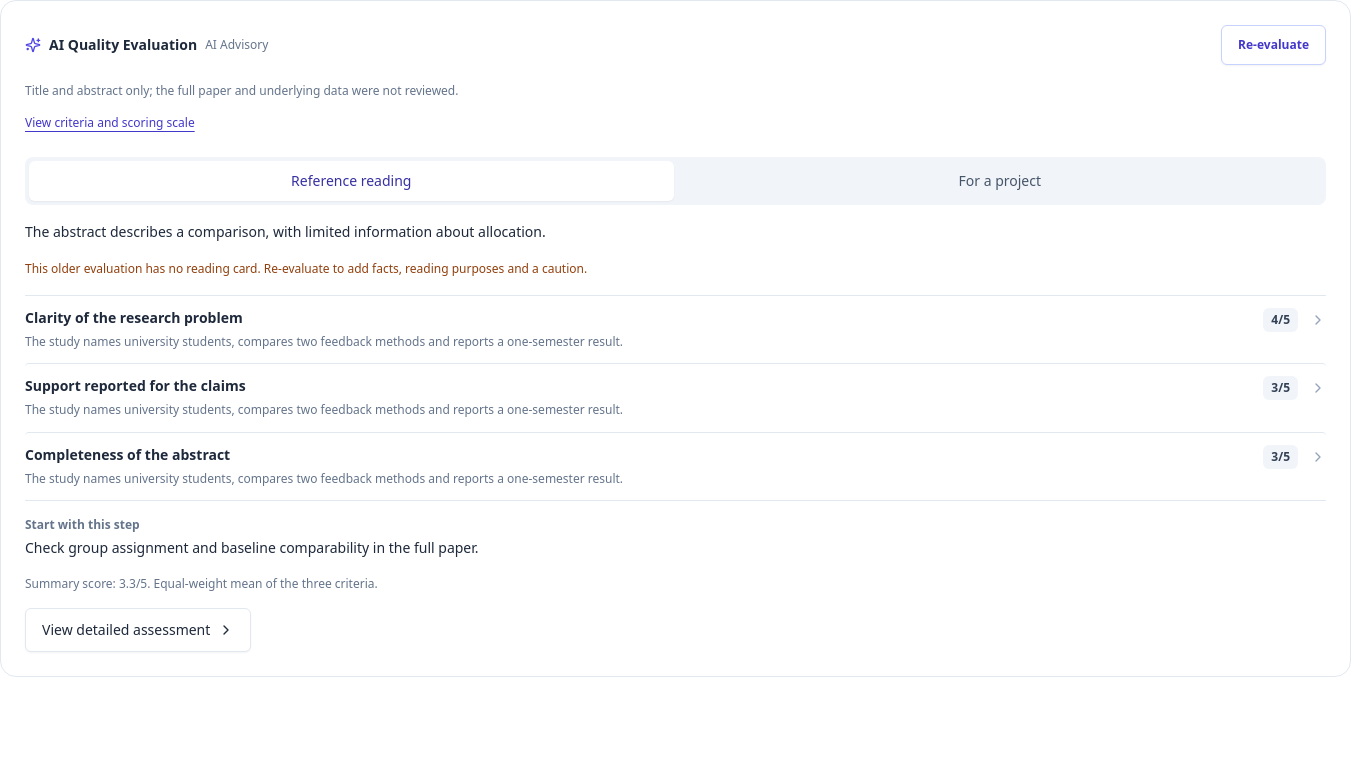
Test: AI quality assessment reading flow › keeps the saved assessment visible if a new evaluation fails
The image size is (1366, 768).
Click the button "Re-evaluate". click: point(1274, 45)
box: [1221,25,1326,65]
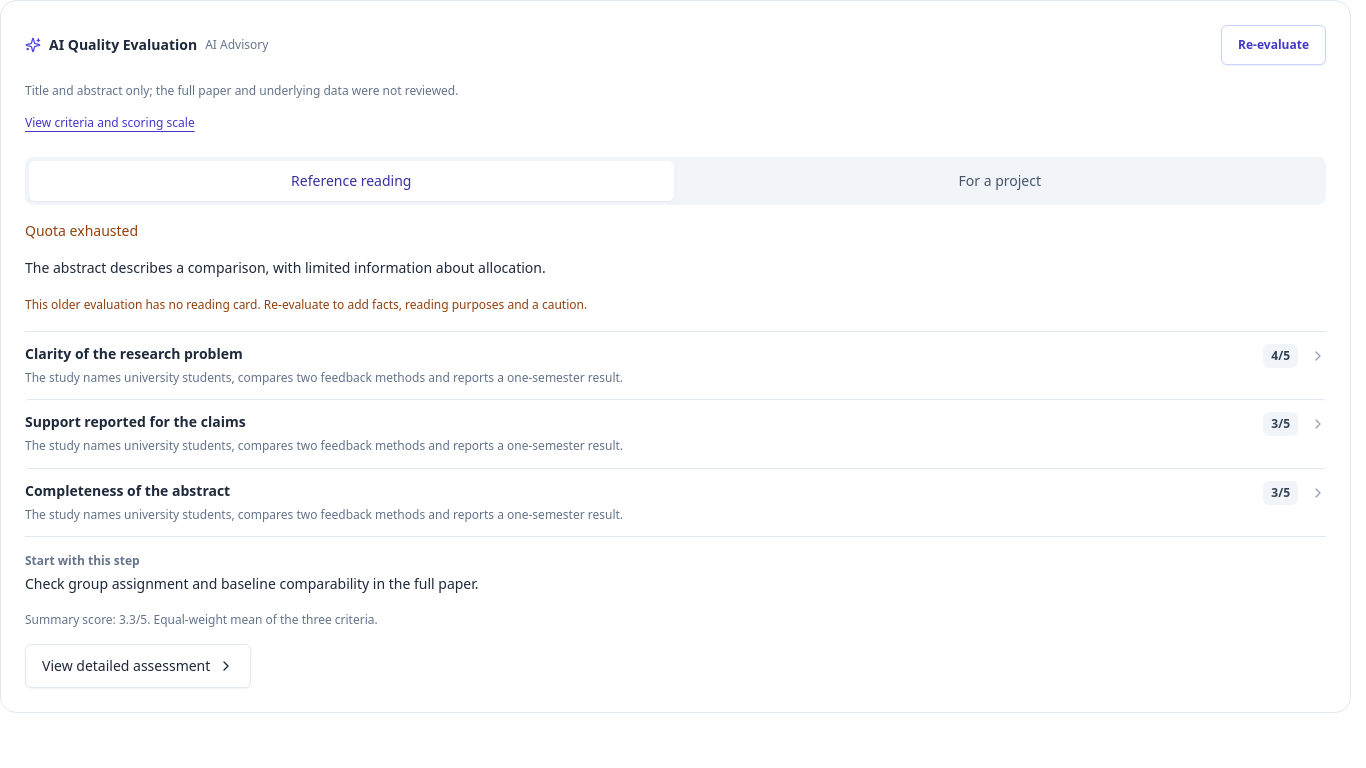
Expected: the text "The abstract describes a comparison" is shown, [25,258,546,276]
Expected: the message "Quota exhausted" is shown, [25,220,138,240]
